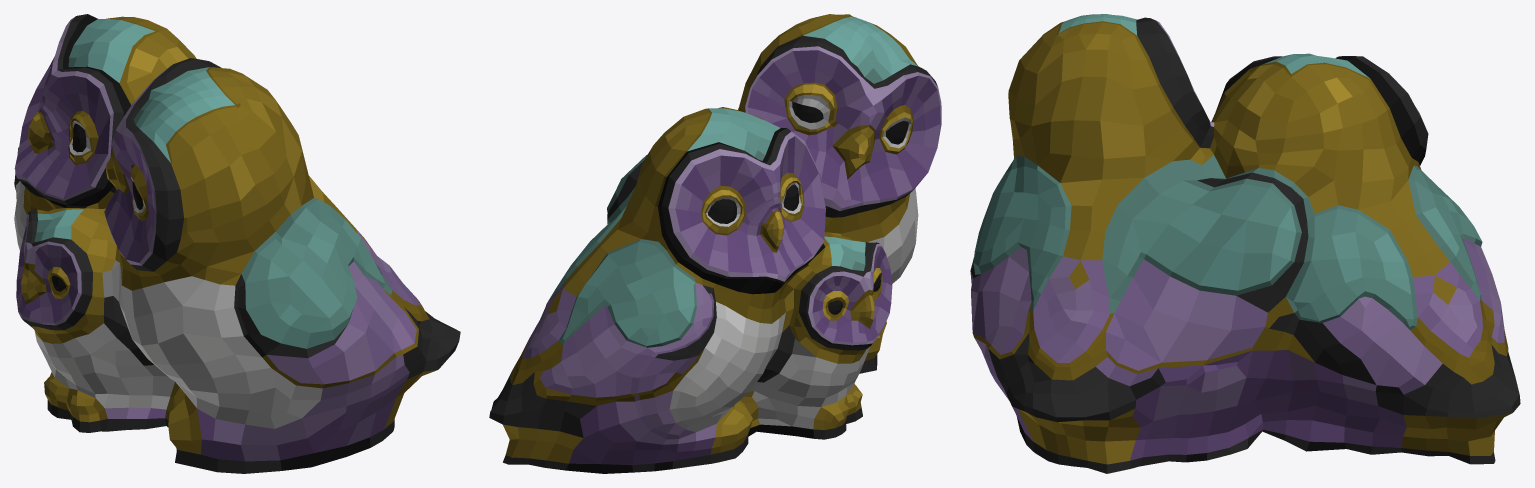
File: lechusitasLowPolyPaint.fbx
3 renders of one model, left to right at view 1: azimuth 30°, elevation 25°; view 2: azimuth 150°, elevation 25°; view 3: azimuth 270°, elevation 25°, orthographic. The views are drawn at different scales.
Visible parts, largest first — view 1: Box001; view 2: Box001; view 3: Box001.
Boxes of the visible parts, box(x1,y1,x2,y2) form: Box001: box(14, 14, 460, 473); Box001: box(489, 14, 941, 473); Box001: box(970, 14, 1520, 473).
Bounding box in the file's own units: 79.92 × 82.76 × 113.
